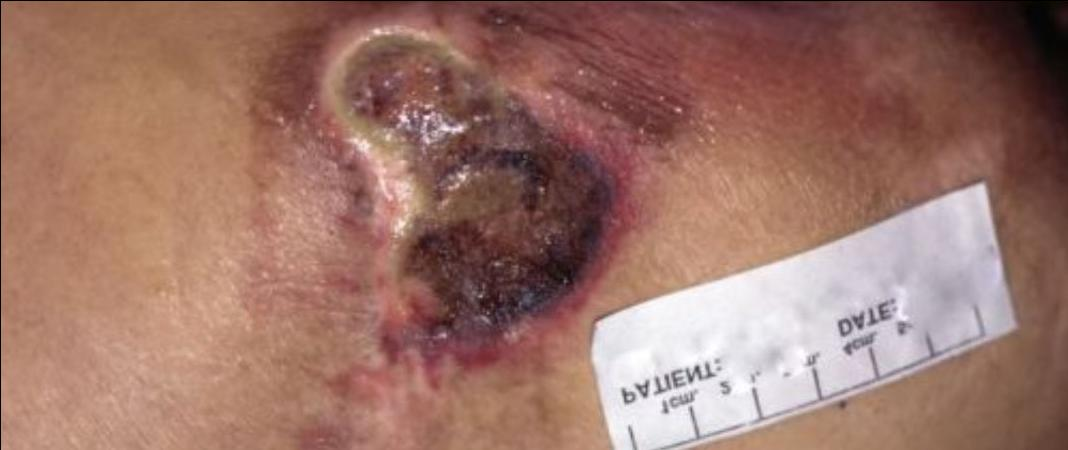Stage2: (269, 14, 718, 393)
